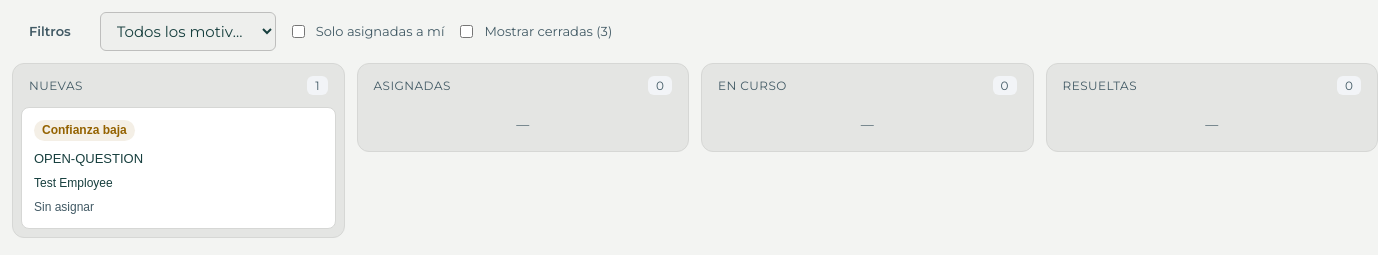
Test: EscalationBoardPage — Mostrar cerradas (Sprint 12b item 2b) › turning it on renders the Cerrada column with its cards, and remembers the choice
This screenshot has width=1378, height=255.
Click the checkbox labelled "Mostrar cerradas (3)" at x=467, y=32, box left=460, top=25, right=473, bottom=38
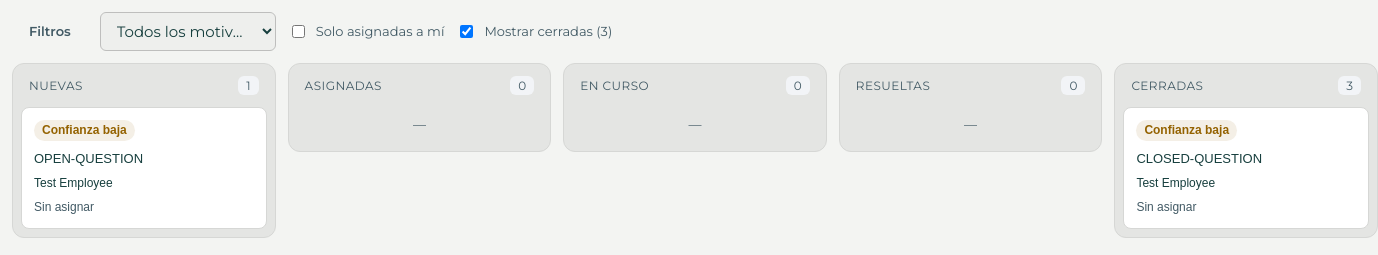
Expected: the text "CLOSED-QUESTION" is shown, left=1136, top=151, right=1262, bottom=166
